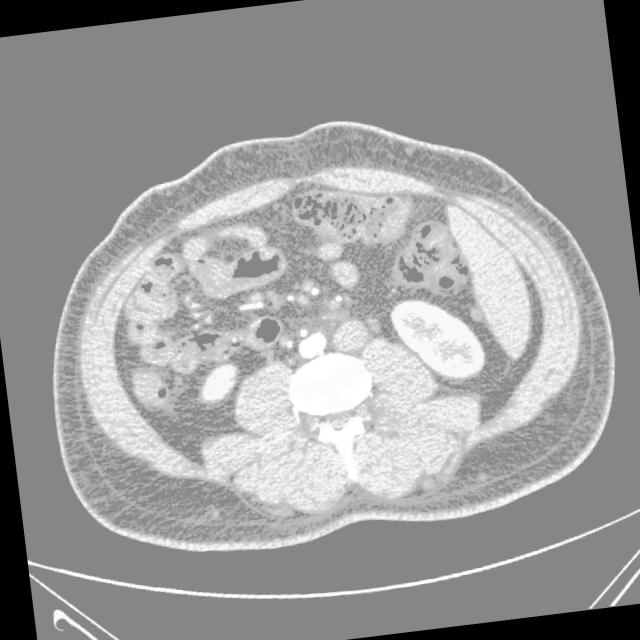NORMAL: (9, 59, 638, 605)
